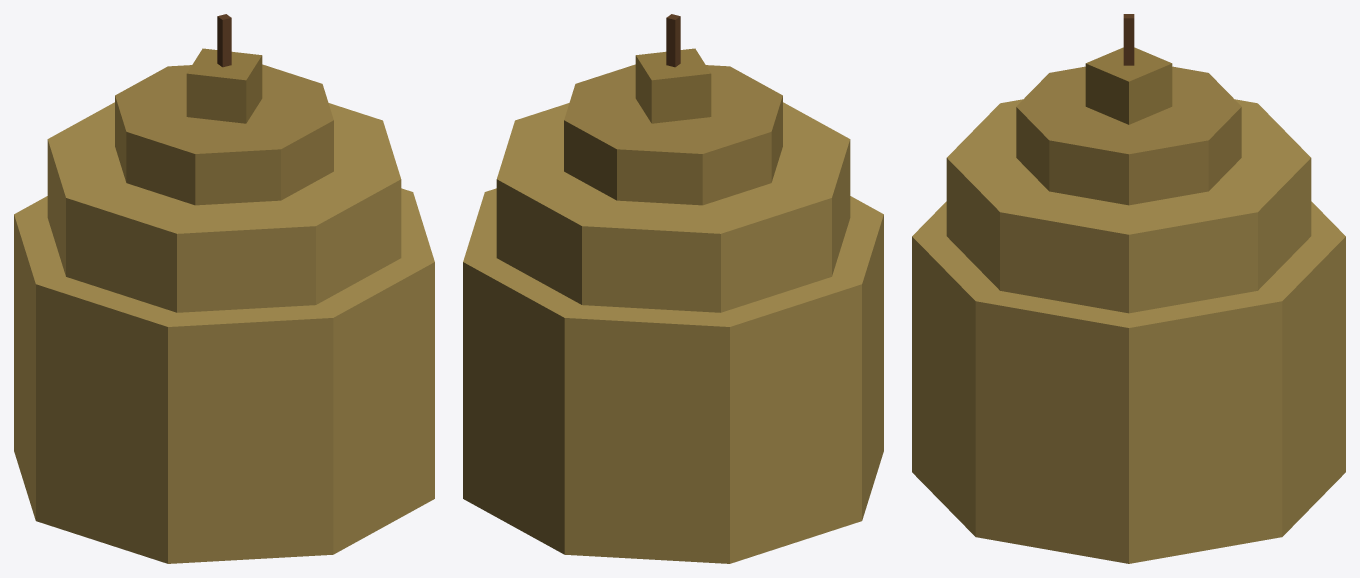
The model's file is bg_field_haystack_1_lod1.glb.
3 views of the same model, side by side, from view 1: azimuth 30°, elevation 25°; view 2: azimuth 150°, elevation 25°; view 3: azimuth 270°, elevation 25° (orthographic).
Parts seen in each view (by area): view 1: body; view 2: body; view 3: body.
Part boxes in pixels (box(x1,y1,x2,y2)): body: box(14, 14, 434, 563); body: box(463, 14, 883, 563); body: box(912, 14, 1345, 563).
Bounding box in the file's own units: 2.5 × 2.9 × 2.5.
